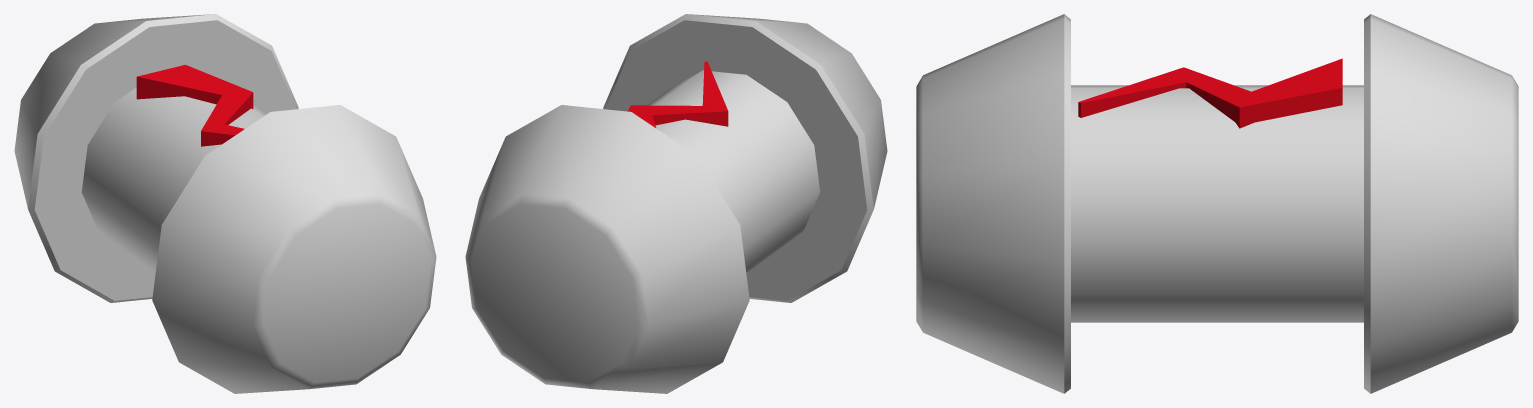
File: Pickup.fbx
3 views of the same model, side by side, from view 1: azimuth 30°, elevation 25°; view 2: azimuth 150°, elevation 25°; view 3: azimuth 270°, elevation 25° (orthographic). The views are drawn at different scales.
Visible parts, largest first — view 1: Cylinder; view 2: Cylinder; view 3: Cylinder.
Boxes of the visible parts, bbox=[...] form: Cylinder: bbox=[14, 14, 436, 393]; Cylinder: bbox=[465, 14, 887, 393]; Cylinder: bbox=[916, 14, 1518, 393].
Bounding box in the file's own units: 636 × 636 × 994.
